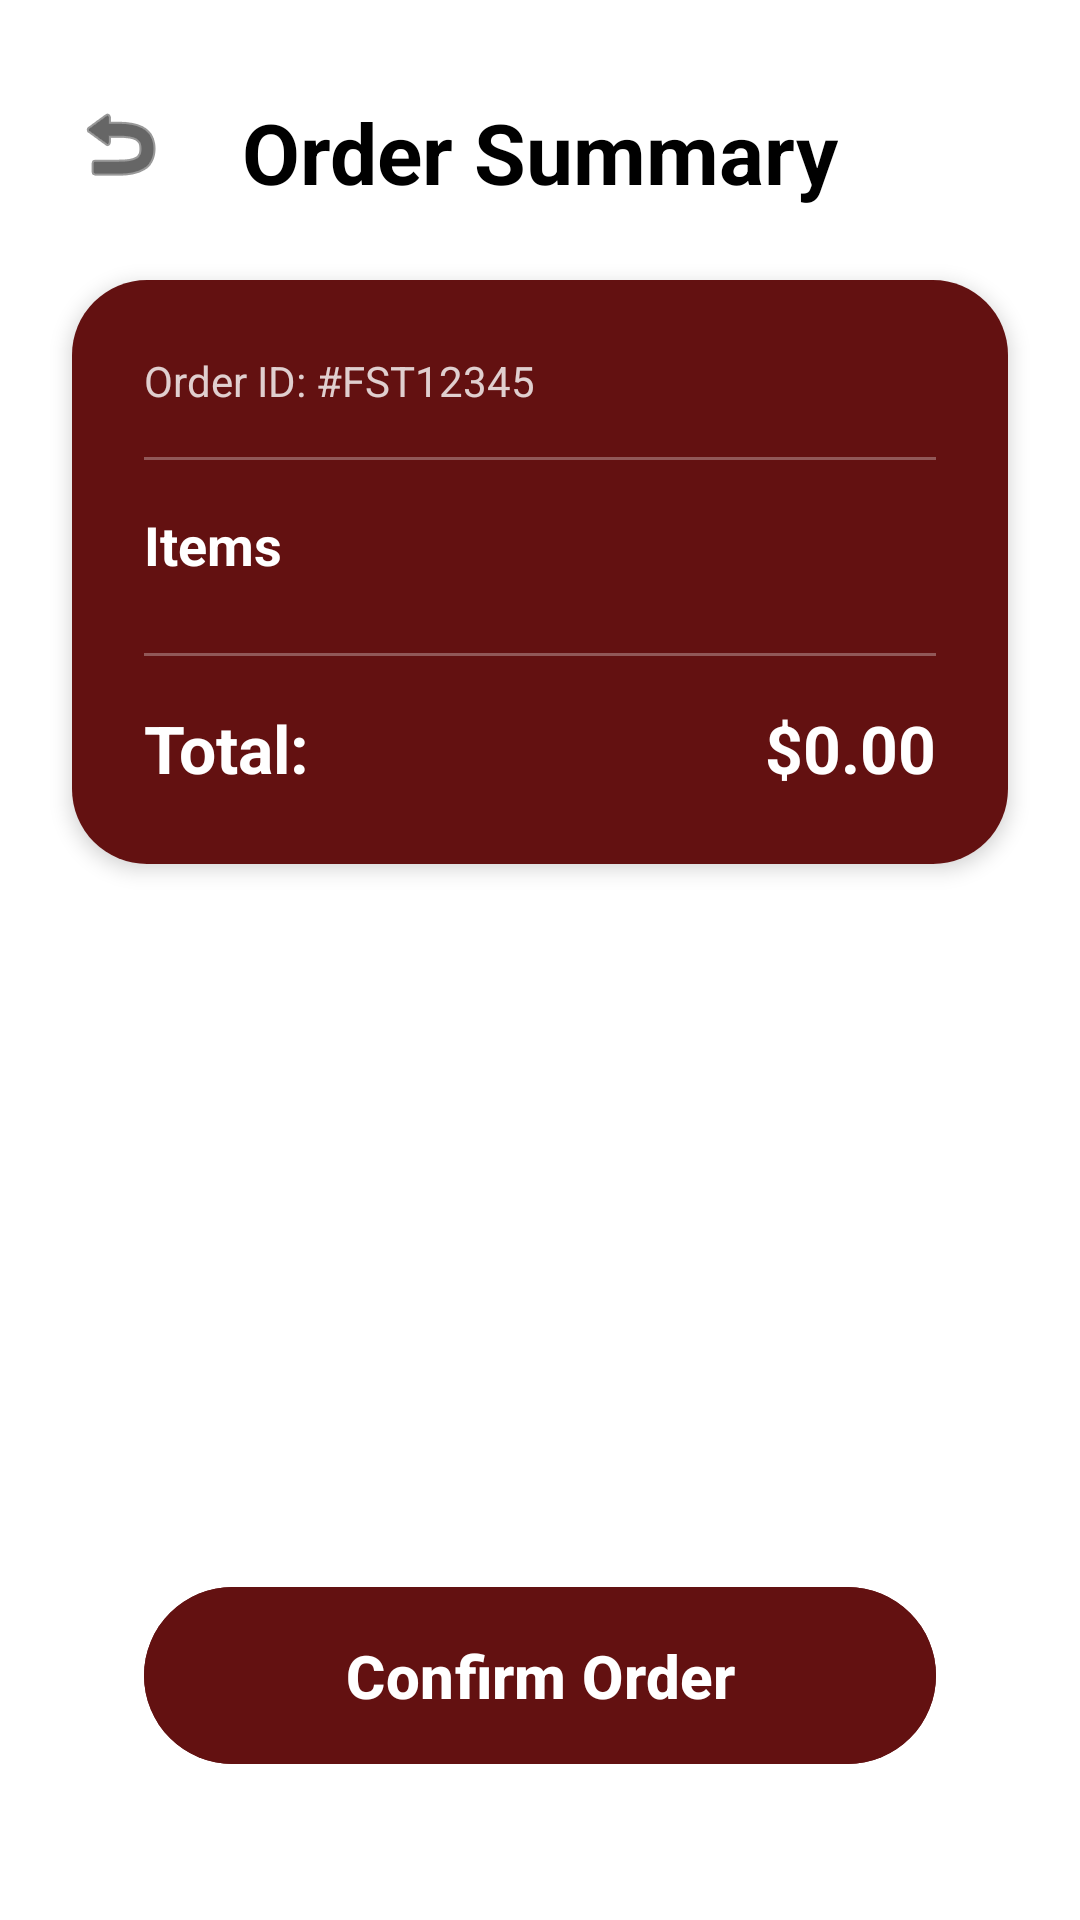

Icon bounding boxes for this 1080×1920 phone screenshot, format (x1, y1, x2, y2):
Back: (87, 113, 156, 176)
